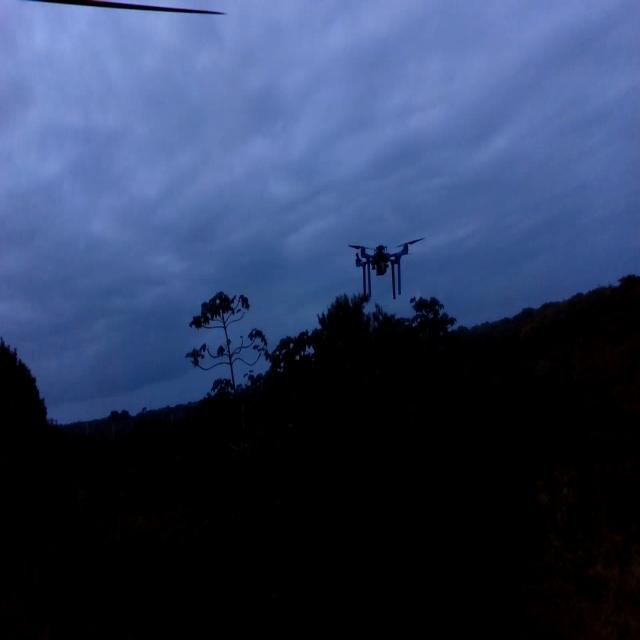-uav-: (330, 218, 432, 324)
